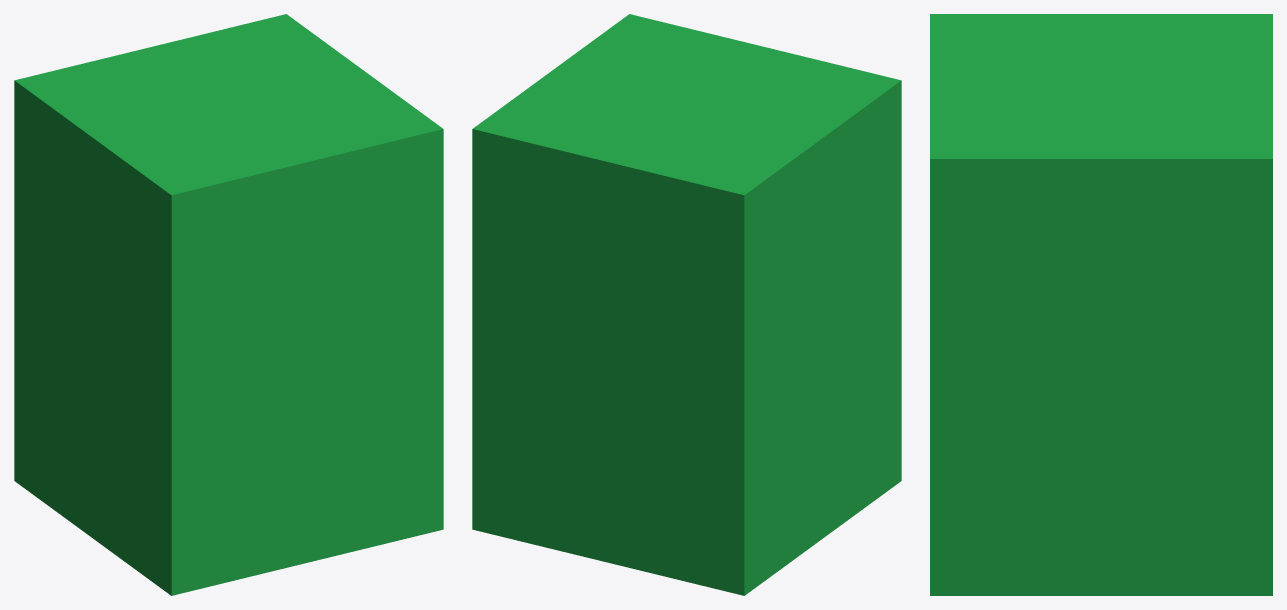
File: Bush.fbx
3 renders of one model, left to right at view 1: azimuth 30°, elevation 25°; view 2: azimuth 150°, elevation 25°; view 3: azimuth 270°, elevation 25°, orthographic. The views are drawn at different scales.
Visible parts, largest first — view 1: Bush; view 2: Bush; view 3: Bush.
Boxes of the visible parts, <box> form: Bush: <box>14,14,443,595</box>; Bush: <box>472,14,901,595</box>; Bush: <box>930,14,1272,595</box>.
Bounding box in the file's own units: 0.4236 × 0.5961 × 0.4236.
